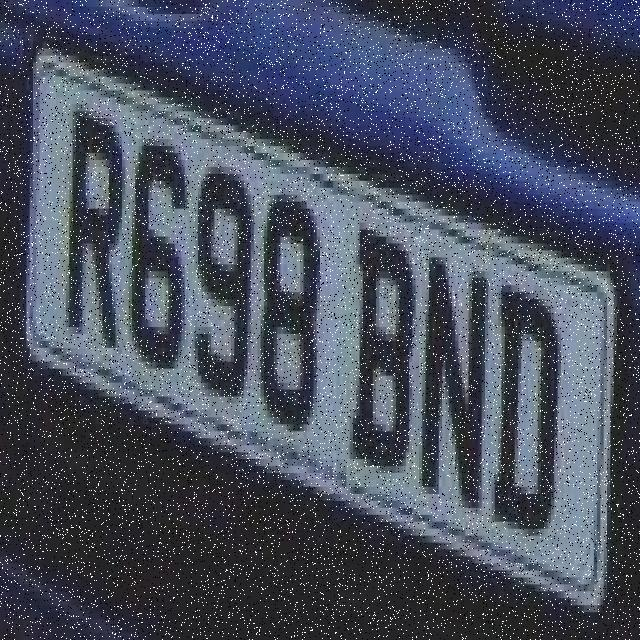licenseplate: (19, 17, 612, 632)
